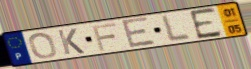E: (187, 6, 225, 41), (120, 15, 158, 50)
F: (90, 22, 118, 52)
K: (55, 27, 86, 56)
L: (160, 13, 193, 44)
O: (28, 31, 59, 59)
